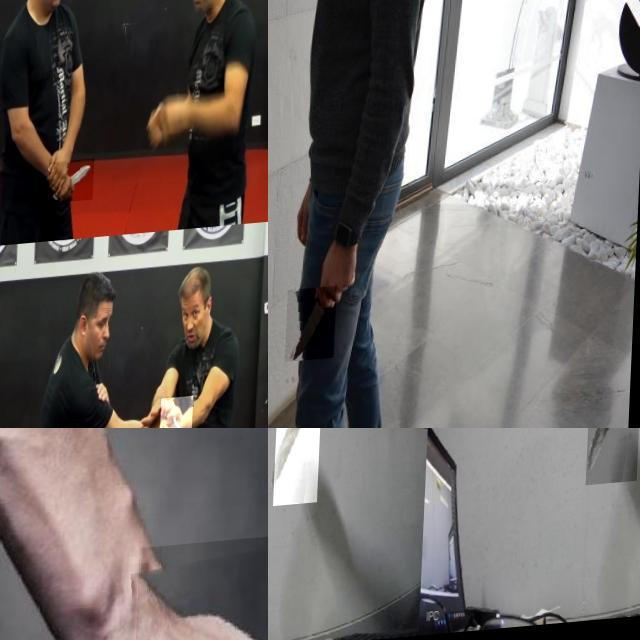-: (131, 530, 268, 640), (590, 428, 640, 515), (277, 428, 327, 509), (289, 292, 340, 368), (50, 161, 96, 205), (163, 400, 198, 428), (574, 428, 605, 447), (268, 428, 275, 443)
